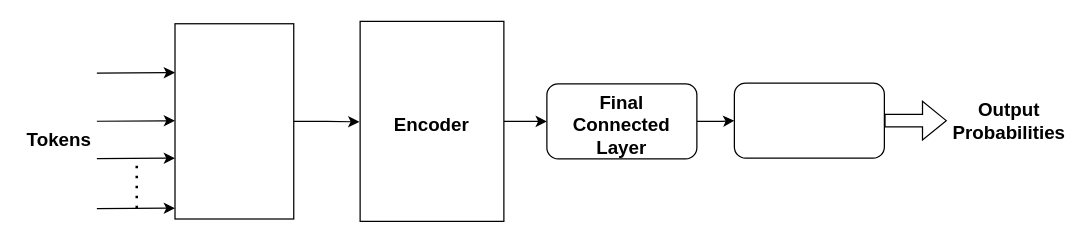
Image size: 1086x245. Some labels were removed from this diagram. The shapes that lost their labels are listed below. From the top down, each one's centre as x and y in pixels, then its label:
At [234,120]: "Embedding Layers".
At [808,120]: "Softmax".
